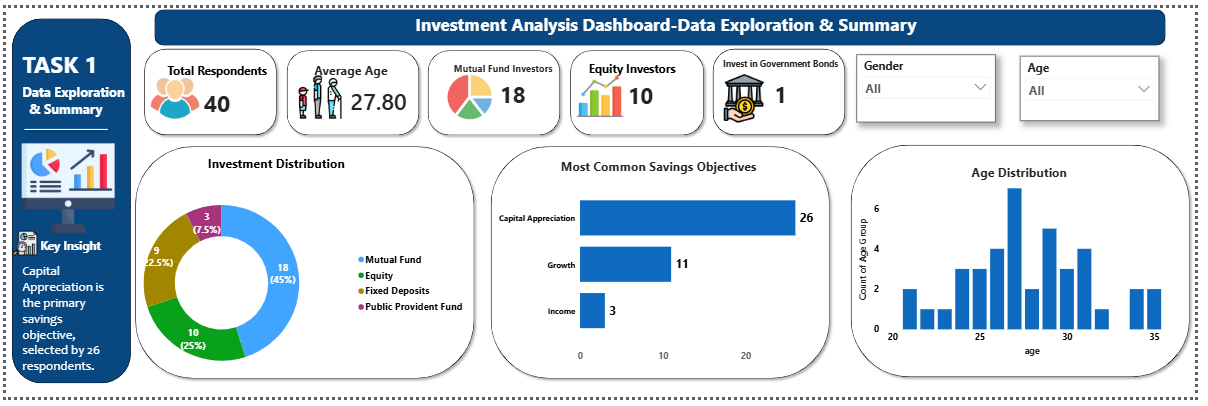

What the dashboard file says about the page in this screenshot:
{"tool":"powerbi","page":{"name":"Task 1","canvas":[2200,720],"ordinal":0},"visuals":[{"type":"shape","box":[10,20,220,675],"z":0},{"type":"shape","box":[247.5,67.5,262.5,177.5],"z":1000},{"type":"shape","box":[510,70,262.5,175],"z":2000},{"type":"shape","box":[772.5,70,262.5,175],"z":3000},{"type":"shape","box":[1035,70,265,175],"z":4000},{"type":"shape","box":[1300,67.5,262.5,177.5],"z":5000},{"type":"shape","box":[230,247.5,645,447.5],"z":6000},{"type":"shape","box":[887.5,247.5,645,447.5],"z":7000},{"type":"shape","box":[1555,245,645,447.5],"z":8000},{"type":"textbox","box":[25,70,187.5,125],"z":9000},{"type":"textbox","box":[25,132.5,365,177.5],"z":10000},{"type":"shape","box":[25,160,172.5,127.5],"z":11000},{"type":"image","box":[0,247.5,230,172.5],"z":12000},{"type":"cardVisual","fields":{"Data":["Data_set 2.Average Age"]},"box":[540,87.5,297.5,120],"z":13000},{"type":"cardVisual","fields":{"Data":["Data_set 2.Mutual Fund Investors"]},"box":[800,75,277.5,137.5],"z":14000},{"type":"cardVisual","fields":{"Data":["Data_set 2.Equity Investors"]},"box":[1050,62.5,250,157.5],"z":15000},{"type":"cardVisual","fields":{"Data":["Data_set 2.Invest in Government Bonds"]},"box":[1290,67.5,285,145],"z":16000},{"type":"image","box":[230,122.5,165,90],"z":17000},{"type":"cardVisual","fields":{"Data":["Data_set 2.Total Respondents"]},"box":[232.5,55,315,192.5],"z":18000},{"type":"image","box":[540,122.5,80,85],"z":19000},{"type":"image","box":[800,122.5,117.5,85],"z":20000},{"type":"image","box":[1050,117.5,100,92.5],"z":21000},{"type":"image","box":[1300,122.5,132.5,90],"z":22000},{"type":"donutChart","title":"Investment Distribution","fields":{"Category":["Data_set 2.Avenue"],"Y":["CountNonNull(Data_set 2.Investment_Avenues)"]},"box":[142.5,272.5,717.5,447.5],"z":23000},{"type":"clusteredBarChart","title":"Most Common Savings Objectives","fields":{"Category":["Data_set 2.Objective"],"Y":["CountNonNull(Data_set 2.Objective)"]},"box":[905,277.5,605,387.5],"z":24000},{"type":"clusteredColumnChart","title":"Age Distribution","fields":{"Y":["CountNonNull(Data_set 2.Age Group)"],"Category":["Data_set 2.age"]},"box":[1575,287.5,602.5,360],"z":25000},{"type":"slicer","fields":{"Values":["Data_set 2.gender"]},"box":[1575,85,257.5,125],"z":26000},{"type":"slicer","fields":{"Values":["Data_set 2.age"]},"box":[1877.5,87.5,257.5,120],"z":27000},{"type":"shape","box":[274.8,2.8,1870.6,66.6],"z":28000},{"type":"textbox","box":[297,2.8,1848.4,61.1],"z":29000},{"type":"textbox","box":[58.3,419.1,255.3,111],"z":30000},{"type":"image","box":[11.1,405.2,47.2,61.1],"z":31000},{"type":"textbox","box":[25,466.3,177.6,227.6],"z":32000}]}

Visuals, with their boxes in screenshot pixels (x1, y1, x2, y2), scaled from the page's 2200x720 canvas onto the 1208x406 screenshot:
shape: Rect(5, 11, 126, 392)
shape: Rect(136, 38, 280, 138)
shape: Rect(280, 39, 424, 138)
shape: Rect(424, 39, 568, 138)
shape: Rect(568, 39, 714, 138)
shape: Rect(714, 38, 858, 138)
shape: Rect(126, 140, 480, 392)
shape: Rect(487, 140, 841, 392)
shape: Rect(854, 138, 1207, 390)
textbox: Rect(14, 39, 117, 110)
textbox: Rect(14, 75, 214, 175)
shape: Rect(14, 90, 108, 162)
image: Rect(0, 140, 126, 237)
cardVisual - Data_set 2.Average Age: Rect(297, 49, 460, 117)
cardVisual - Data_set 2.Mutual Fund Investors: Rect(439, 42, 592, 120)
cardVisual - Data_set 2.Equity Investors: Rect(577, 35, 714, 124)
cardVisual - Data_set 2.Invest in Government Bonds: Rect(708, 38, 865, 120)
image: Rect(126, 69, 217, 120)
cardVisual - Data_set 2.Total Respondents: Rect(128, 31, 301, 140)
image: Rect(297, 69, 340, 117)
image: Rect(439, 69, 504, 117)
image: Rect(577, 66, 631, 118)
image: Rect(714, 69, 787, 120)
"Investment Distribution" donutChart: Rect(78, 154, 472, 405)
"Most Common Savings Objectives" clusteredBarChart: Rect(497, 156, 829, 375)
"Age Distribution" clusteredColumnChart: Rect(865, 162, 1196, 365)
slicer - Data_set 2.gender: Rect(865, 48, 1006, 118)
slicer - Data_set 2.age: Rect(1031, 49, 1172, 117)
shape: Rect(151, 2, 1178, 39)
textbox: Rect(163, 2, 1178, 36)
textbox: Rect(32, 236, 172, 299)
image: Rect(6, 228, 32, 263)
textbox: Rect(14, 263, 111, 391)
